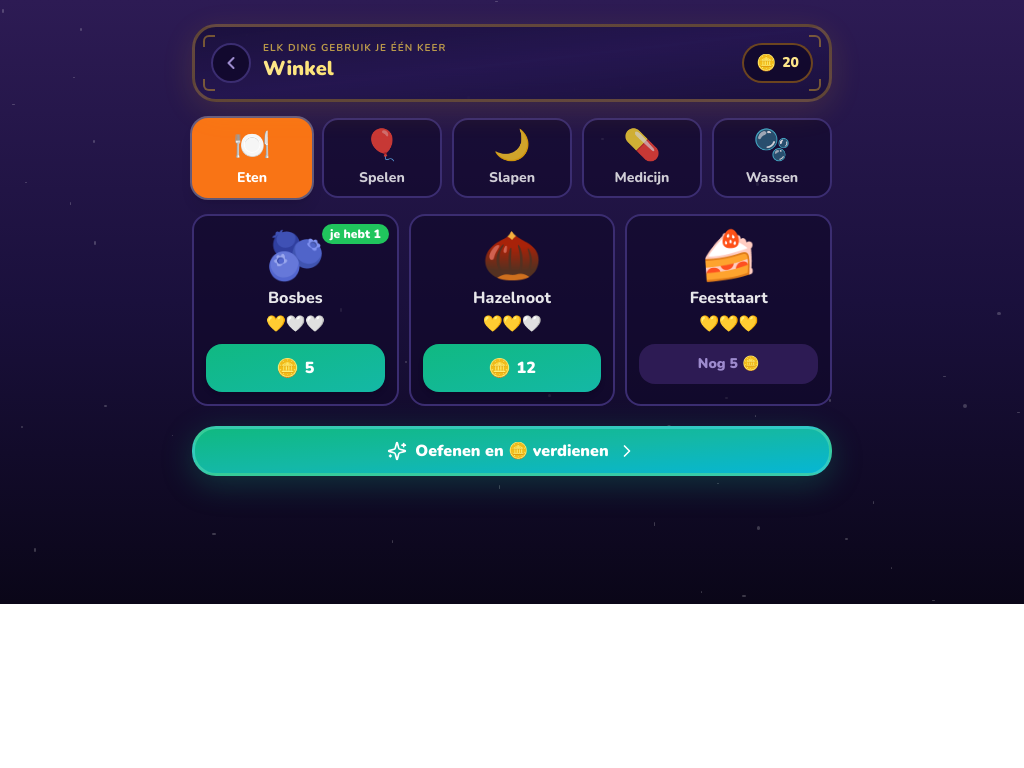
Test case: BuddyShop › explains how many coins are missing instead of offering to buy
This screenshot has width=1024, height=768.
Click the button with aria-label "Feesttaart kost 25 Munten": (729, 310) [625,214,832,406]
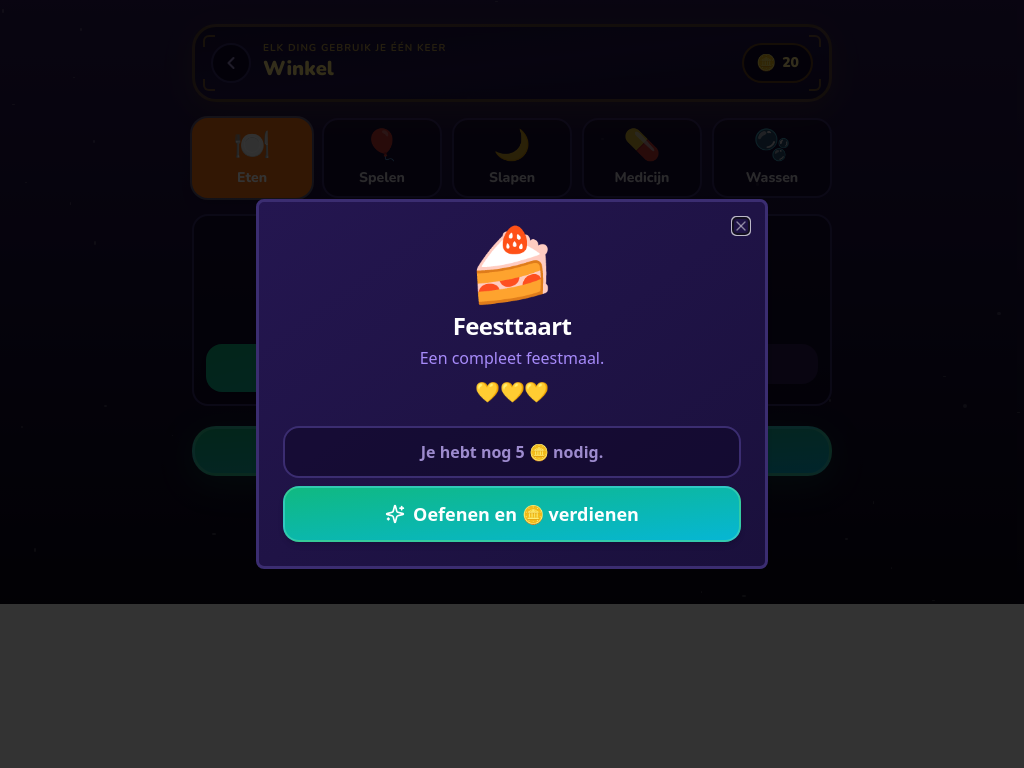
Check: the dialog shows "Je hebt nog 5 🪙 nodig.", box [256,199,768,569]
